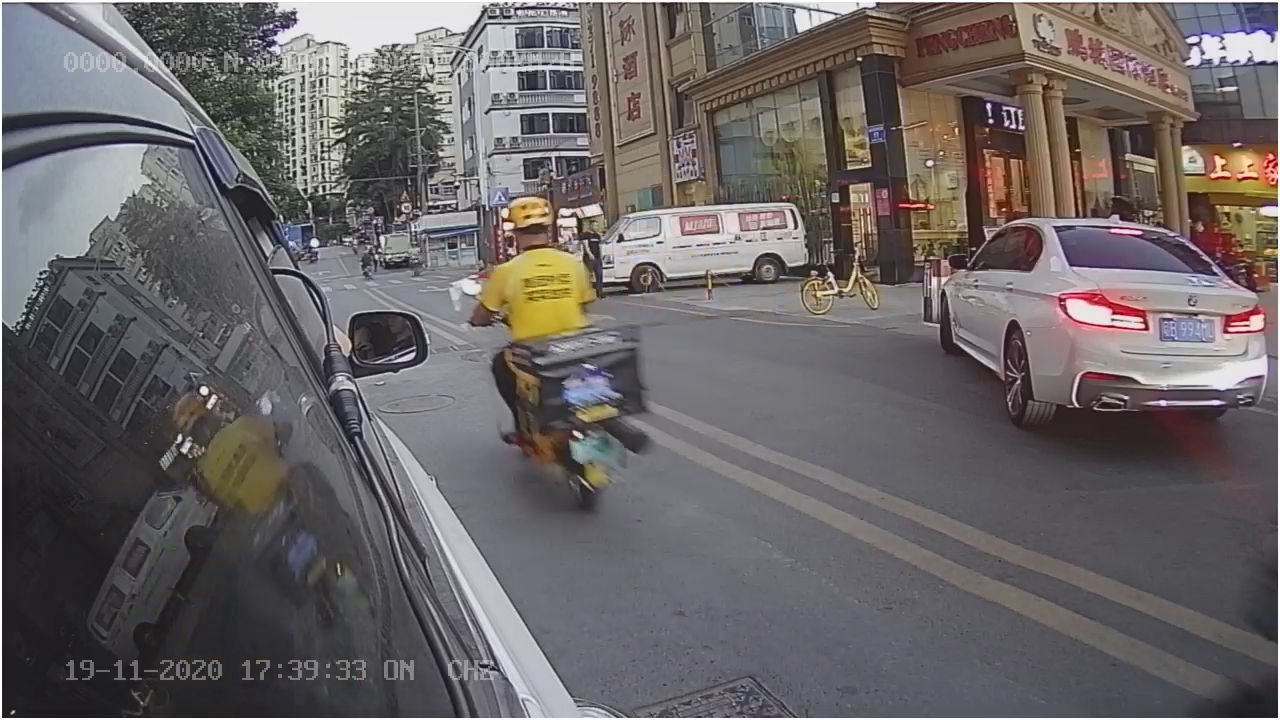person: (484, 204, 590, 341)
